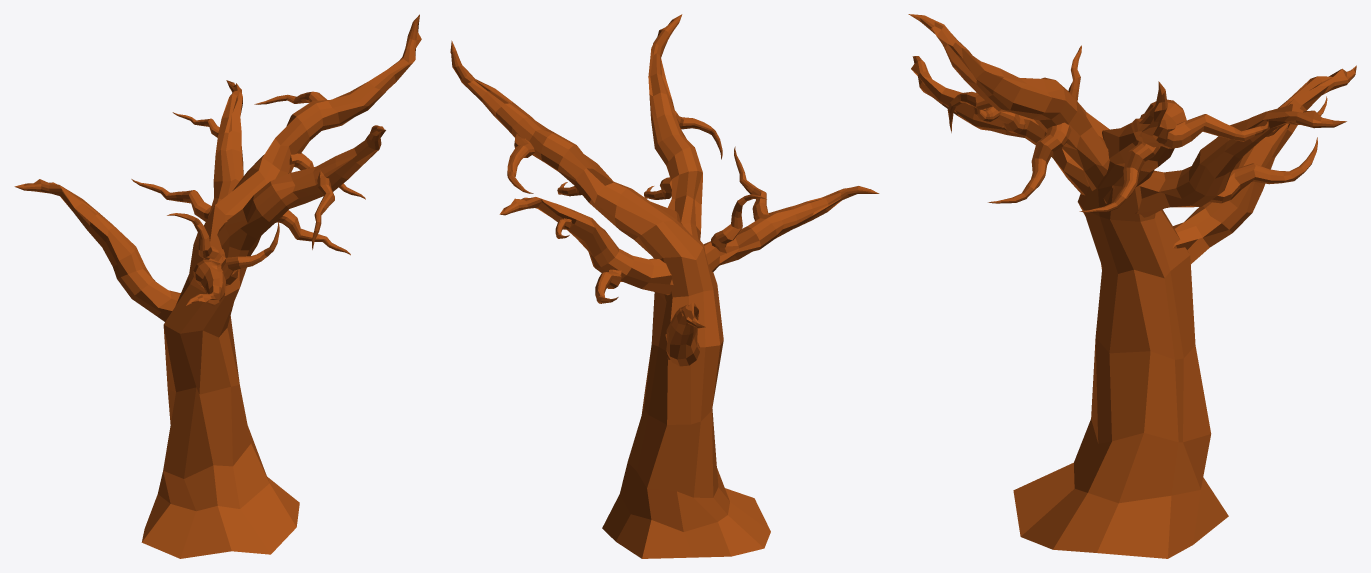
Rendered from tree_12.FBX.
3 renders of one model, left to right at view 1: azimuth 30°, elevation 25°; view 2: azimuth 150°, elevation 25°; view 3: azimuth 270°, elevation 25°, orthographic. The views are drawn at different scales.
Visible parts, largest first — view 1: tree_12; view 2: tree_12; view 3: tree_12.
Boxes of the visible parts, x1,y1,x2,y2 form: tree_12: (14,14,421,558); tree_12: (450,14,879,558); tree_12: (908,14,1356,558).
Size of the model in its own units: 7.66 by 10.04 by 7.
Materials: 1 (1 with a texture image).
